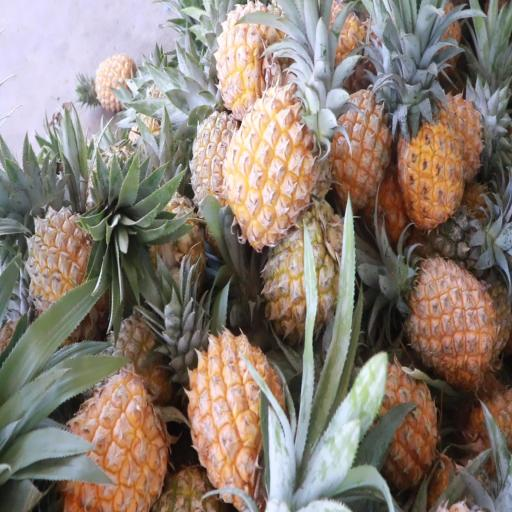------------------------------: (256, 218, 339, 349)
Pineapple - v8 v1: (192, 340, 286, 500), (60, 382, 169, 512), (230, 94, 317, 242), (406, 265, 496, 380), (355, 360, 436, 486), (326, 86, 392, 208), (397, 108, 462, 224), (218, 2, 284, 106)
